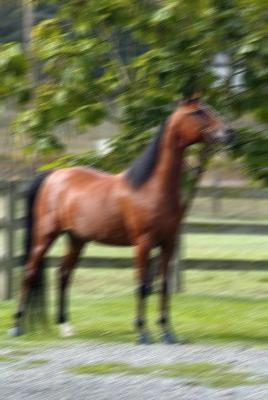horse: (8, 84, 237, 344)
